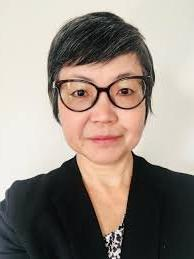Sober: (59, 58, 143, 159)
